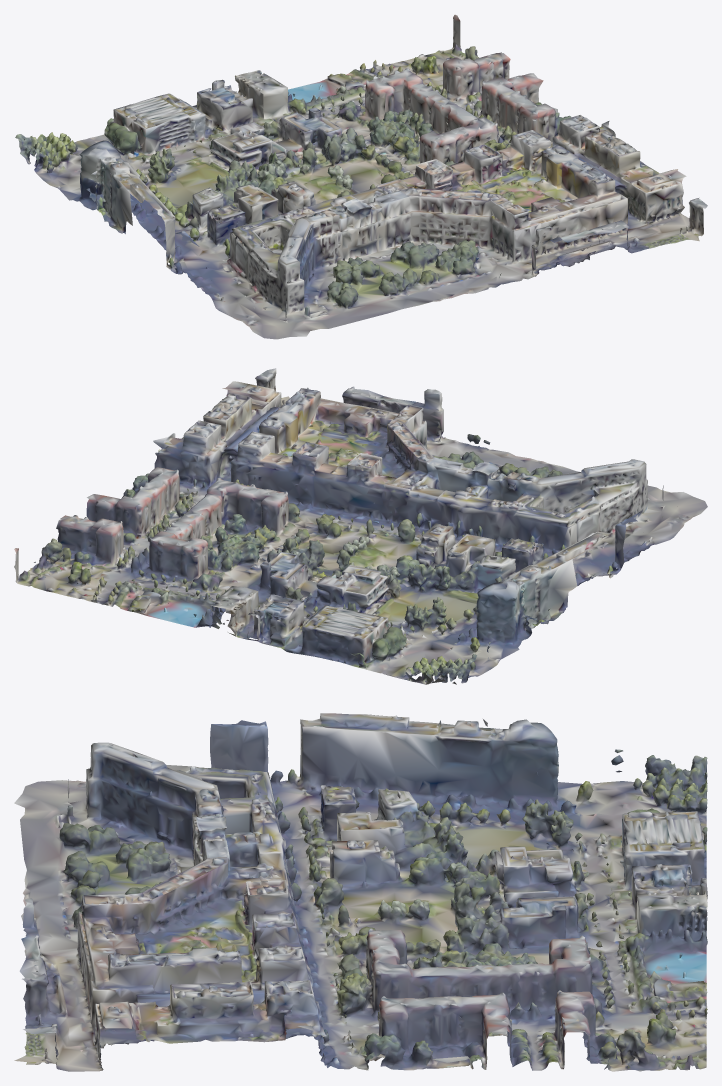
File: tile-3898_58189.glb
3 renders of one model, top to bottom at view 1: azimuth 30°, elevation 25°; view 2: azimuth 150°, elevation 25°; view 3: azimuth 270°, elevation 25°, orthographic. The views are drawn at different scales.
Visible parts, largest first — view 1: world; view 2: world; view 3: world.
Part boxes in pixels (box(x1,y1,x2,y2)): world: box(15, 14, 707, 339); world: box(14, 368, 707, 684); world: box(14, 713, 707, 1071).
Size of the model in its own units: 373 by 45.04 by 368.
